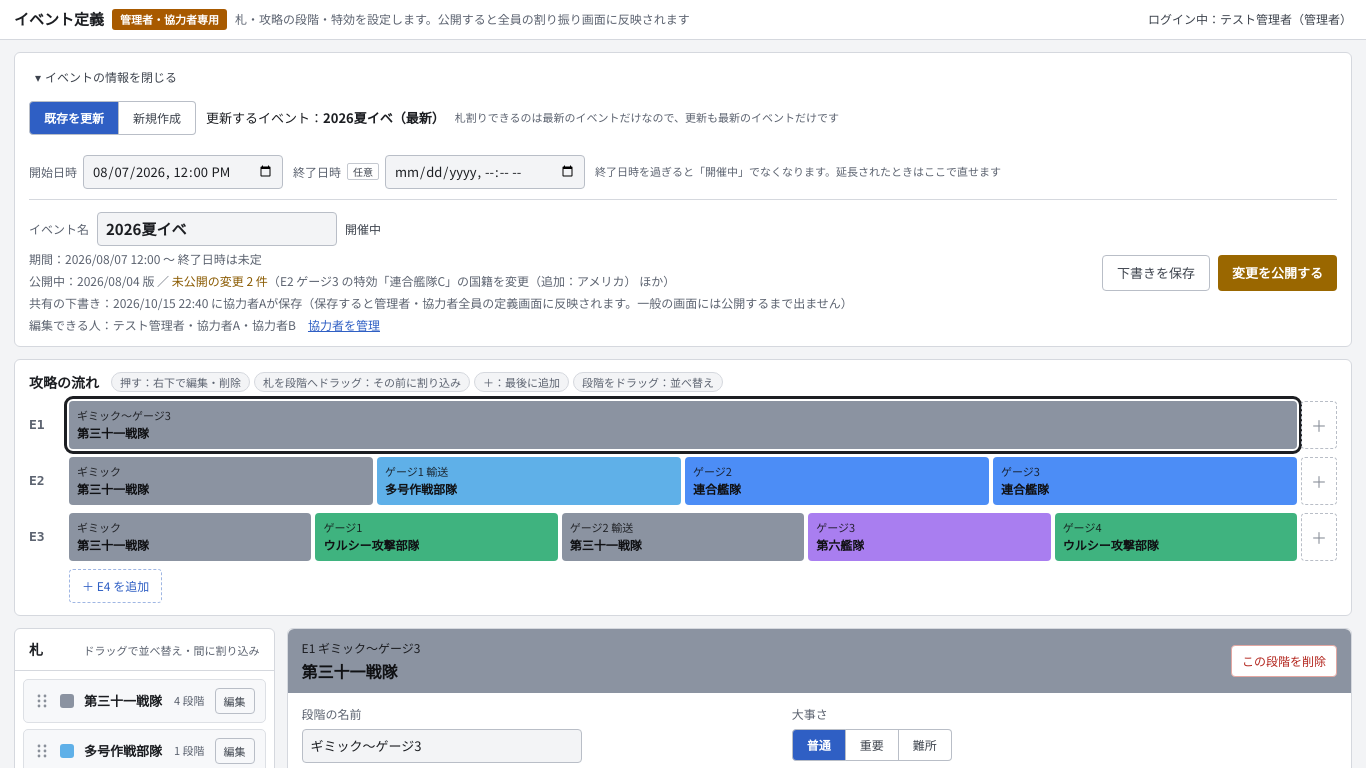
Test: イベント定義の画面（PlanEditor）：特効グループの艦種（v1.1。国籍の条件を絞る） › 艦種のタグ › 艦種を持つグループは、国籍のタグの下に、艦種のタグ（表示名）を選択肢の順に出す（文書が駆逐・軽巡の順でも 軽巡・駆逐）
Expected: the element "攻略の流れ" is shown, [14,358,1352,616]
What coordinates should you click on to do the following:
click the button "ゲージ3 連合艦隊"
I would click on:
 (1020, 470)
Its box is [993,456,1297,504].
(page scrolled)
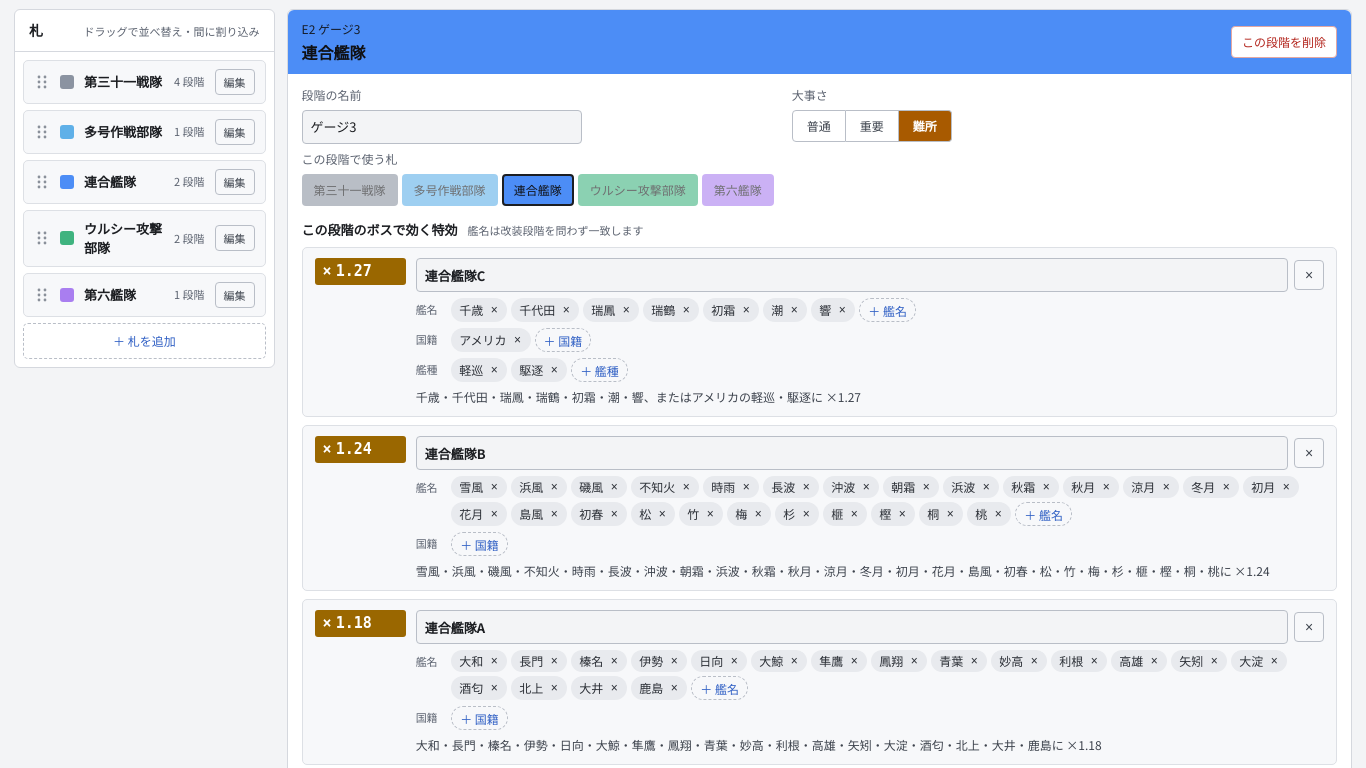
Expected: the list "艦種" is shown, [451,358,628,382]
Expected: the text "駆逐" is shown, [519,361,543,379]
